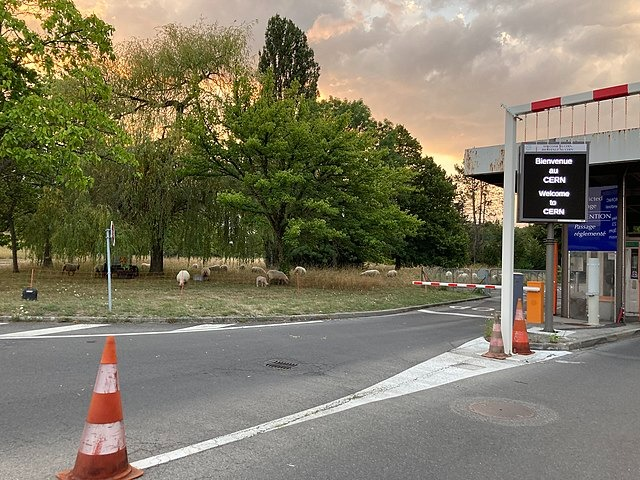grazing: (267, 269, 289, 288), (175, 268, 191, 289)
standing: (61, 263, 84, 278)
